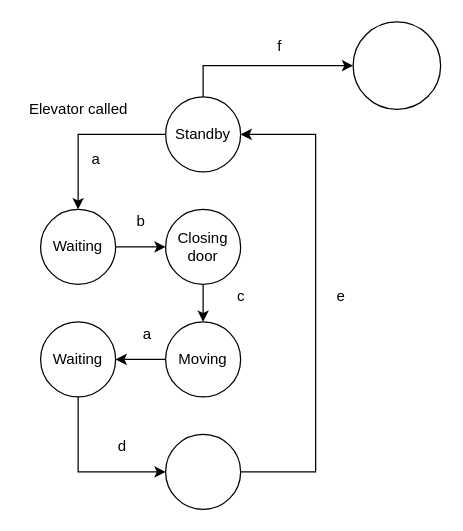
The diagram is 463 pixels wide and 531 high, and some of its shapes have lost their labels. Here are the shapes that lost their labels. From the top down, the box of each, then its label:
(352, 21, 441, 109): Terminated
(164, 433, 241, 509): Opening door
